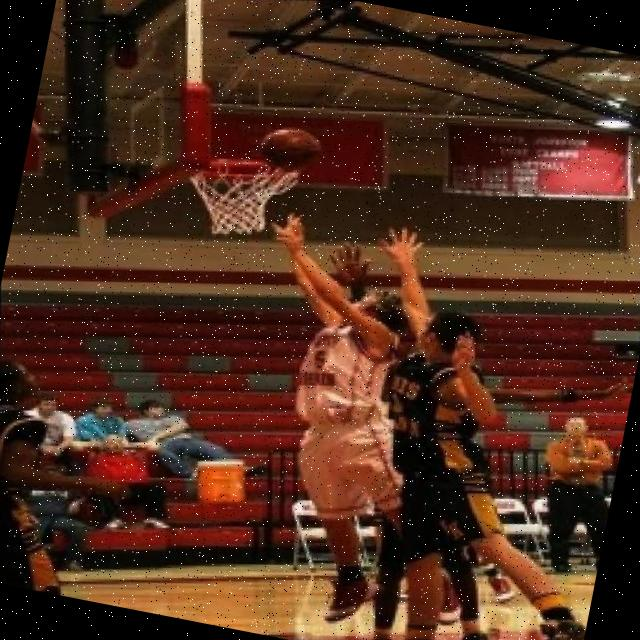ball: (245, 110, 335, 187)
hoop: (188, 146, 302, 200)
